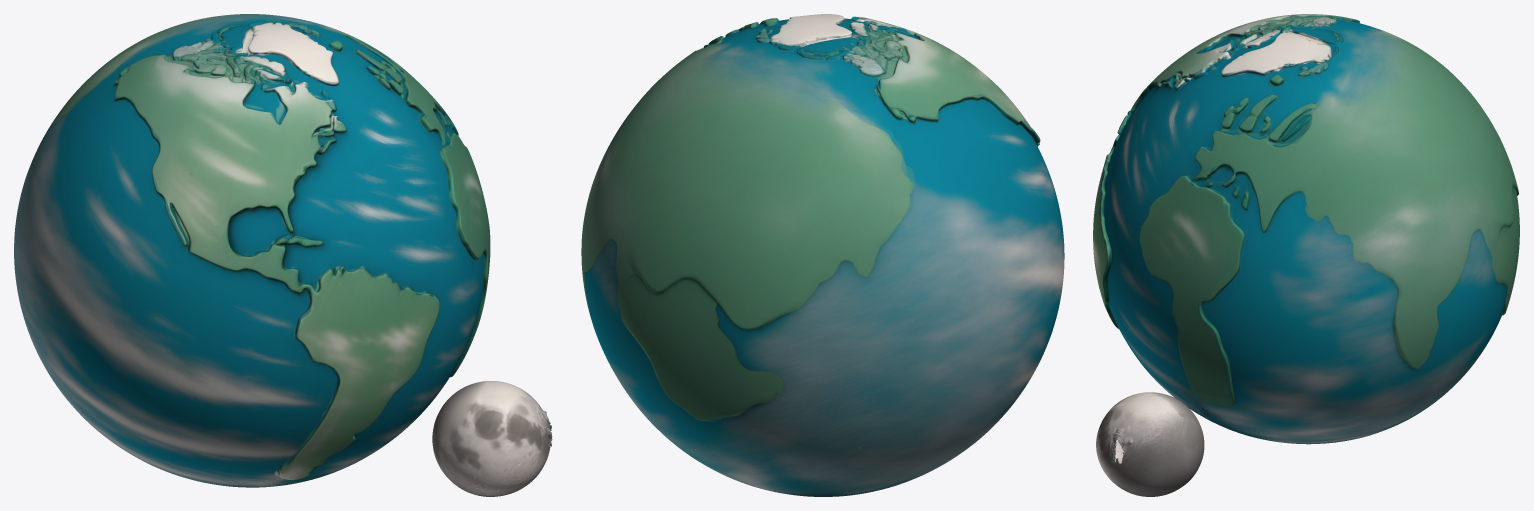
The model's file is earth_moon_20260524.glb.
3 renders of one model, left to right at view 1: azimuth 30°, elevation 25°; view 2: azimuth 150°, elevation 25°; view 3: azimuth 270°, elevation 25°, orthographic. The views are drawn at different scales.
Visible parts, largest first — view 1: node_0; view 2: node_0; view 3: node_0.
Part boxes in pixels (left/top/right/bottom): node_0: left=14, top=14, right=552, bottom=496; node_0: left=581, top=14, right=1064, bottom=496; node_0: left=1093, top=14, right=1519, bottom=496.
Size of the model in its own units: 0.7791 by 0.779 by 0.7787.
Materials: 1 (1 with a texture image).
